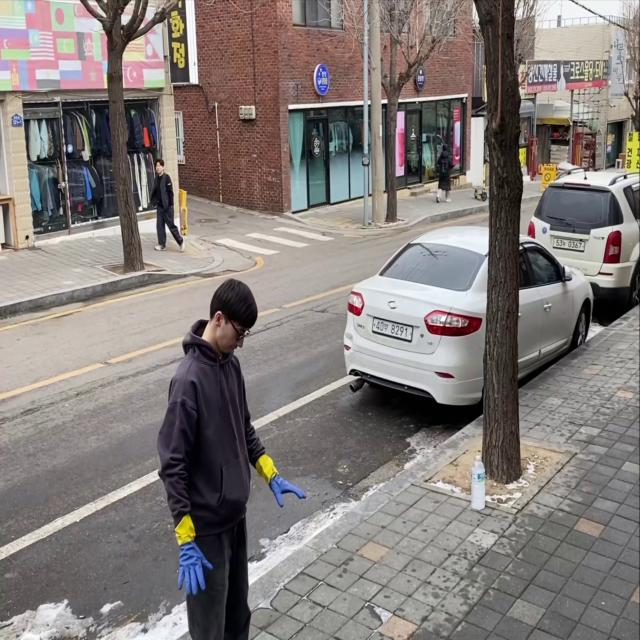gloved_hand: (176, 540, 213, 596), (265, 471, 307, 511)
